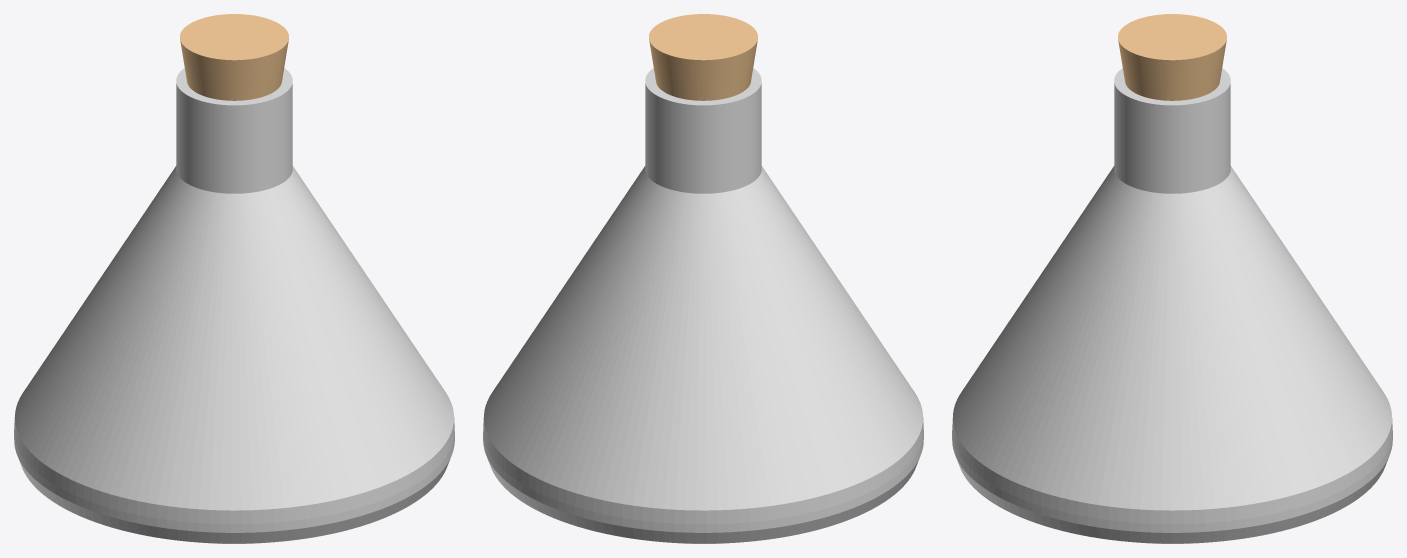
File: health potion.fbx
The picture shows the model from 3 angles, left to right: view 1: azimuth 30°, elevation 25°; view 2: azimuth 150°, elevation 25°; view 3: azimuth 270°, elevation 25°; orthographic projection.
Parts seen in each view (by area): view 1: Cylinder, Cylinder.002; view 2: Cylinder, Cylinder.002; view 3: Cylinder, Cylinder.002.
Part boxes in pixels (<box>): Cylinder: <box>14,68,454,543</box>; Cylinder.002: <box>180,14,288,100</box>; Cylinder: <box>483,68,923,543</box>; Cylinder.002: <box>649,14,757,100</box>; Cylinder: <box>952,68,1392,543</box>; Cylinder.002: <box>1118,14,1226,100</box>.
Bounding box in the file's own units: 756 × 809 × 756.
